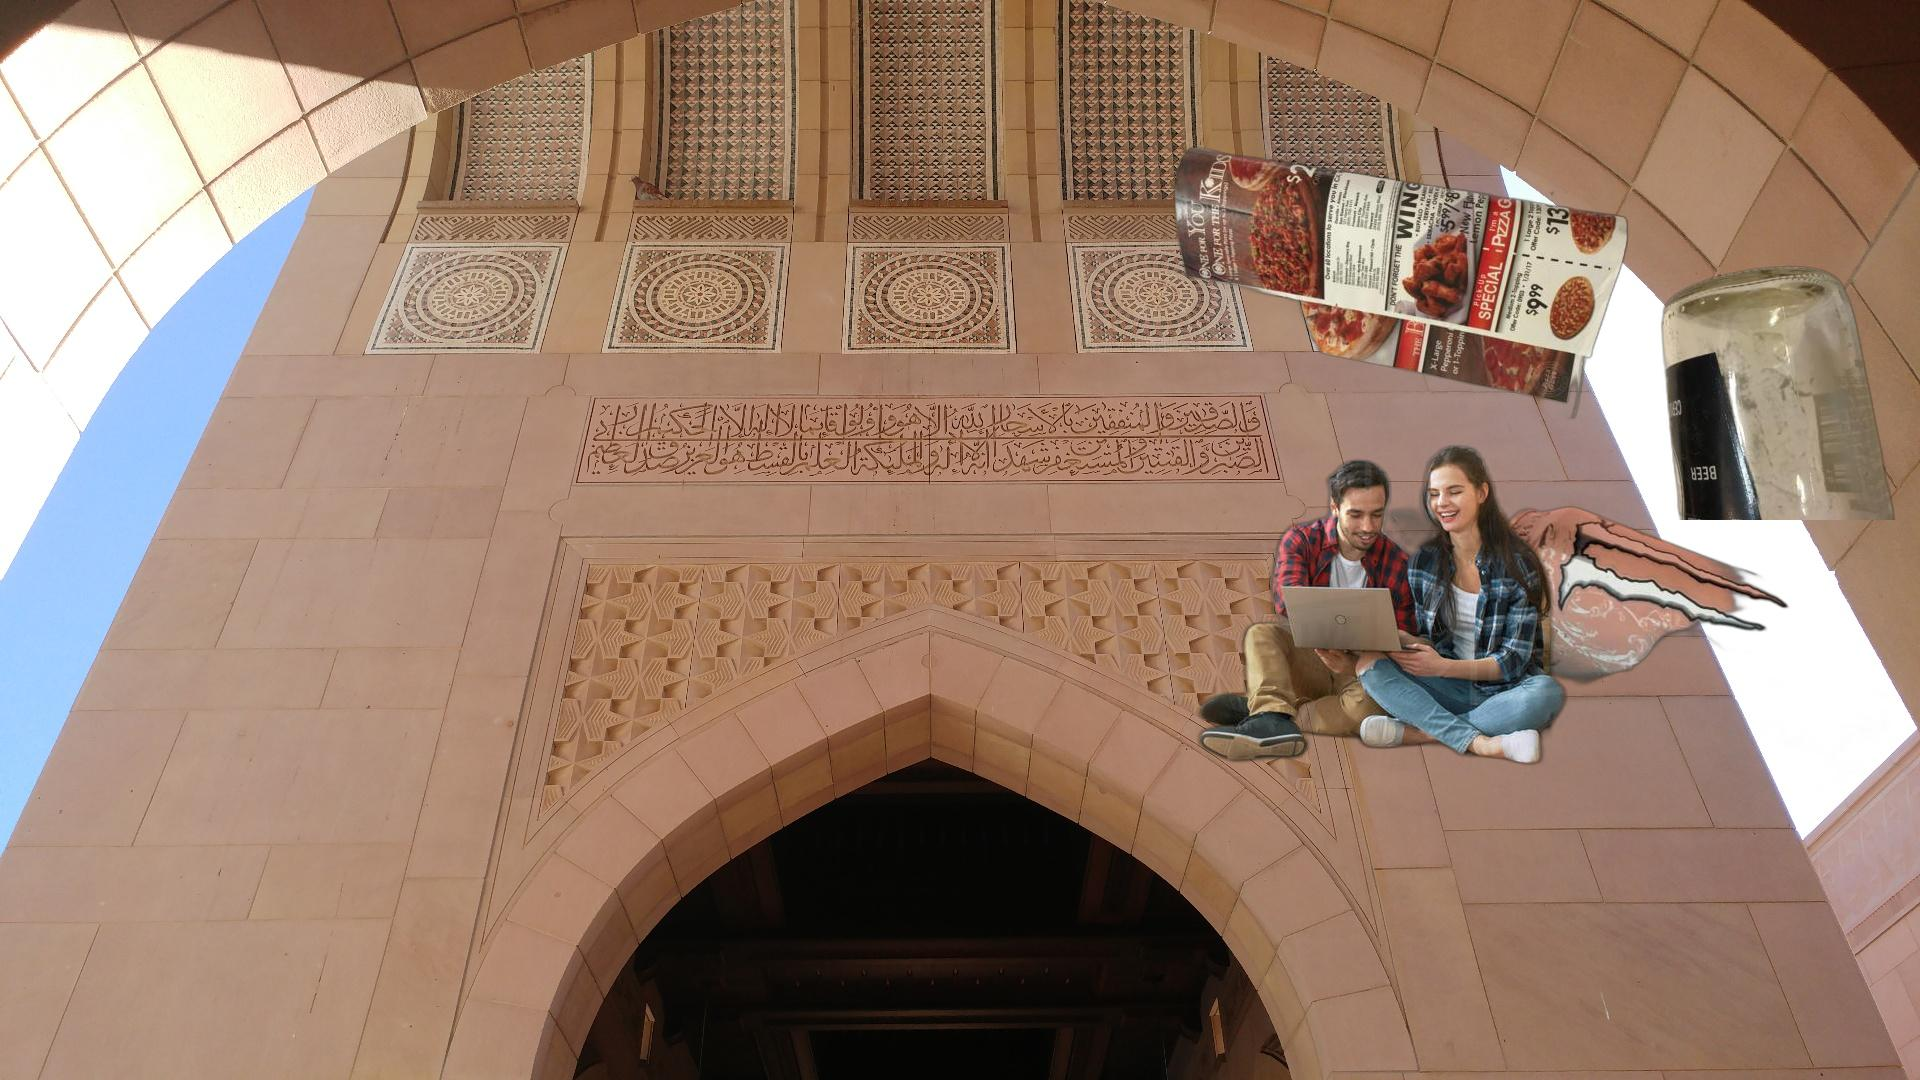glass: (1658, 262, 1898, 520)
metal-cans: (1466, 504, 1898, 798)
paper: (1170, 145, 1633, 421)
trashbox-cardboard: (1188, 439, 1575, 769)
